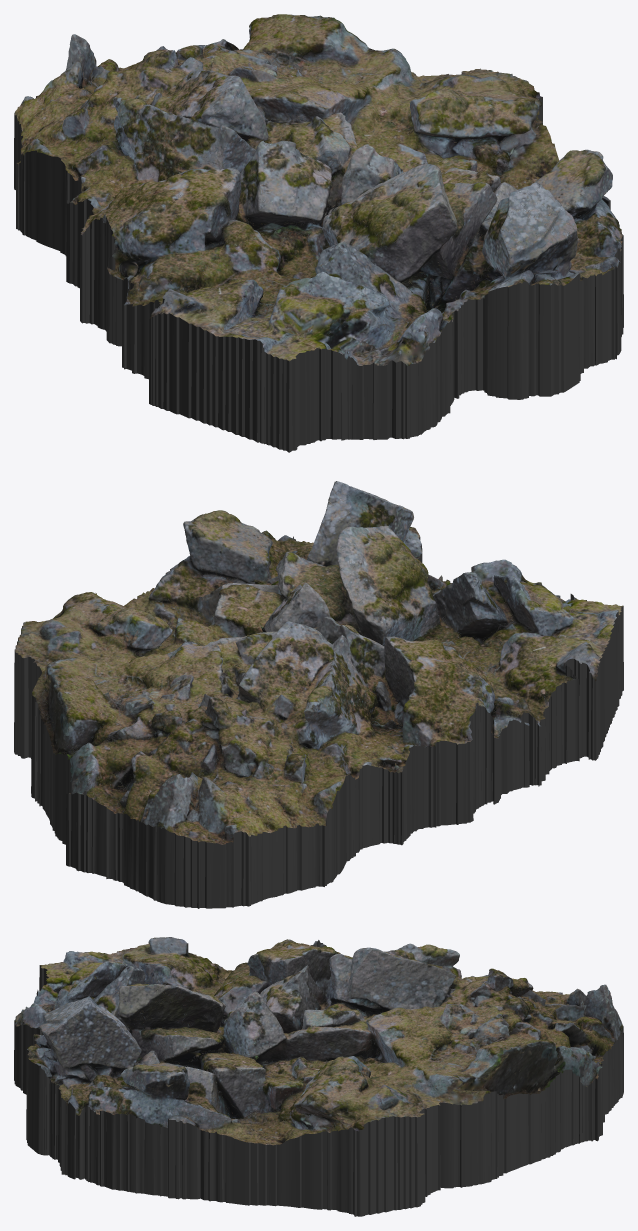
File: moss_covered_rock_pile.glb
The picture shows the model from 3 angles, top to bottom: view 1: azimuth 30°, elevation 25°; view 2: azimuth 150°, elevation 25°; view 3: azimuth 270°, elevation 25°; orthographic projection. The views are drawn at different scales.
Parts seen in each view (by area): view 1: Object_5, Object_3, Object_4, Object_6; view 2: Object_5, Object_4, Object_3, Object_6; view 3: Object_4, Object_3, Object_6, Object_5.
Boxes of the visible parts, box(x1,y1,x2,y2) form: Object_5: box(16, 66, 496, 351); Object_3: box(14, 72, 623, 452); Object_4: box(34, 14, 623, 352); Object_6: box(14, 39, 497, 365); Object_5: box(195, 526, 618, 828); Object_4: box(14, 481, 618, 843); Object_3: box(14, 536, 623, 908); Object_6: box(131, 525, 622, 844); Object_4: box(27, 947, 623, 1145); Object_3: box(14, 940, 623, 1216); Object_6: box(14, 953, 604, 1080); Object_5: box(46, 937, 561, 1065).
Bounding box in the file's own units: 9.62 × 3.41 × 12.42.
2 materials, 1 textured.
